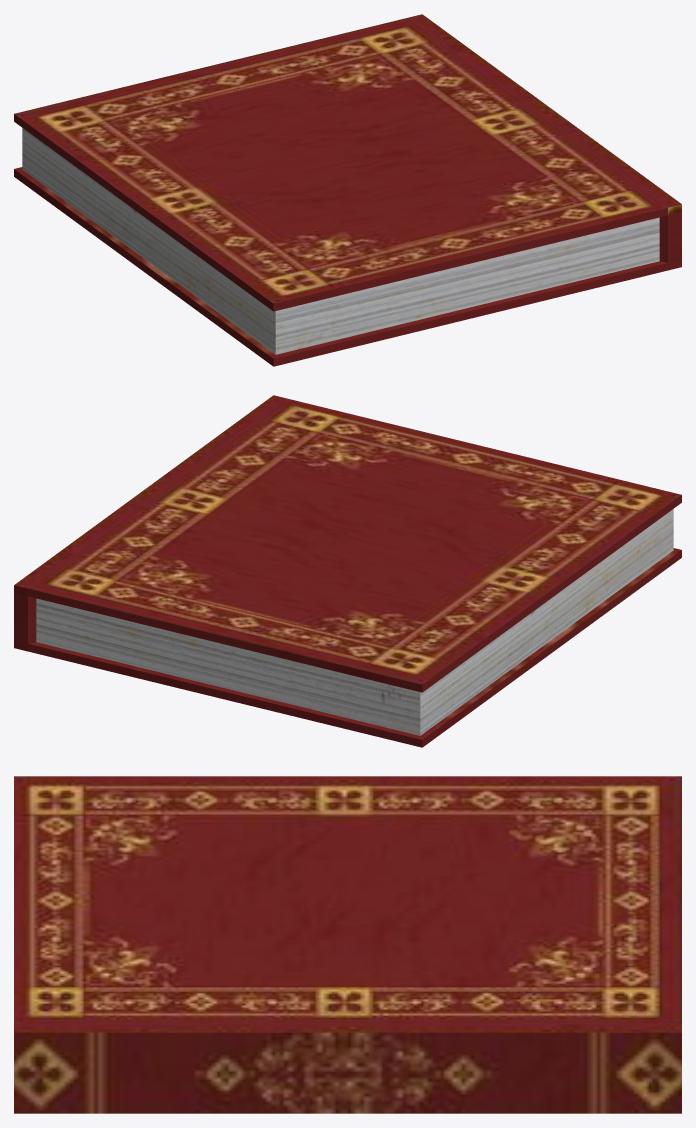
Rendered from Livrovermelho.fbx.
3 views of the same model, one above another, from view 1: azimuth 30°, elevation 25°; view 2: azimuth 150°, elevation 25°; view 3: azimuth 270°, elevation 25° (orthographic). The views are drawn at different scales.
Parts seen in each view (by area): view 1: Cube.004; view 2: Cube.004; view 3: Cube.004.
Part boxes in pixels (x1,y1,x2,y2): Cube.004: (14,14,681,366); Cube.004: (14,395,681,747); Cube.004: (14,776,681,1113).
Bounding box in the file's own units: 25.93 × 3.85 × 28.55.
